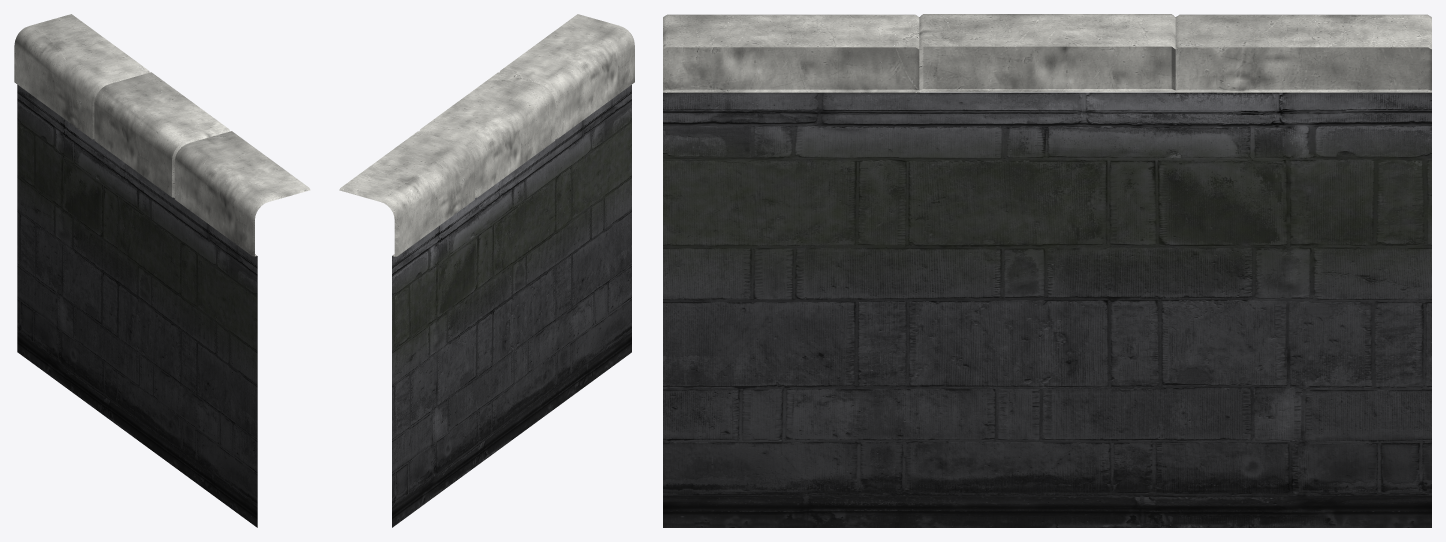
File: SM_Banchina_Mod4m_v2.fbx
The picture shows the model from 3 angles, left to right: view 1: azimuth 30°, elevation 25°; view 2: azimuth 150°, elevation 25°; view 3: azimuth 270°, elevation 25°; orthographic projection. The views are drawn at different scales.
Visible parts, largest first — view 1: SM_Banchina_Mod4m_v2; view 2: SM_Banchina_Mod4m_v2; view 3: SM_Banchina_Mod4m_v2.
Boxes of the visible parts, x1,y1,x2,y2 form: SM_Banchina_Mod4m_v2: (14,14,310,527); SM_Banchina_Mod4m_v2: (339,14,634,527); SM_Banchina_Mod4m_v2: (663,14,1431,527).
Size of what is drawn, in the model's own units: 55.34 by 400 by 300.
Materials: 2 (2 with a texture image).
